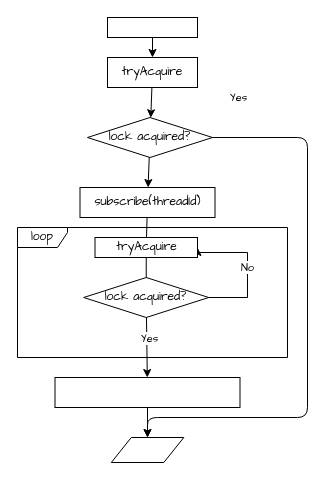
Some shapes in this 333 by 480 pixel diagram are drawn without their labels. The centre of each missing label's shape, as x and y in pixels:
done: the point at 147,449
lock: the point at 152,27
unsubscribe(entry, threadId): the point at 147,392
